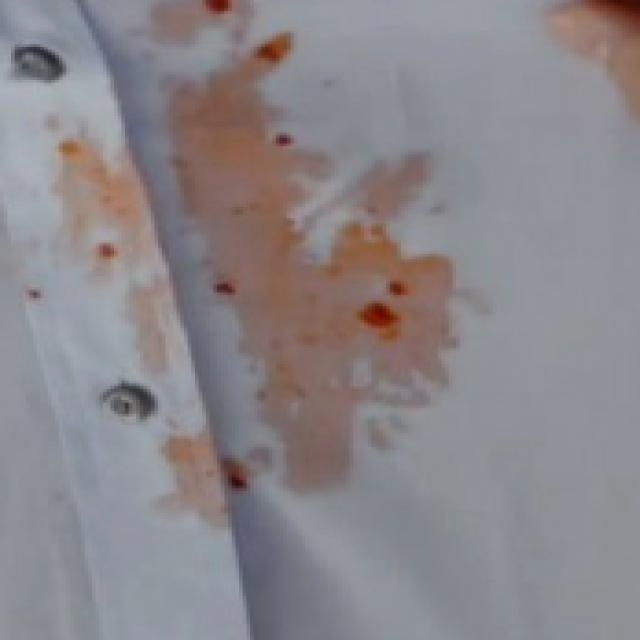kimchi: (5, 0, 497, 529), (533, 0, 638, 125), (346, 246, 422, 347), (184, 443, 276, 514), (191, 252, 259, 317), (237, 105, 309, 160), (81, 222, 125, 278), (179, 0, 247, 26), (48, 133, 91, 174), (250, 38, 288, 73), (12, 271, 46, 307)
